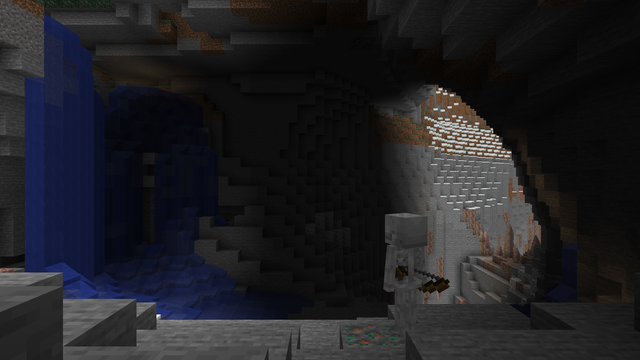slimes: (209, 171, 214, 174)
squelettes: (384, 213, 429, 339)
